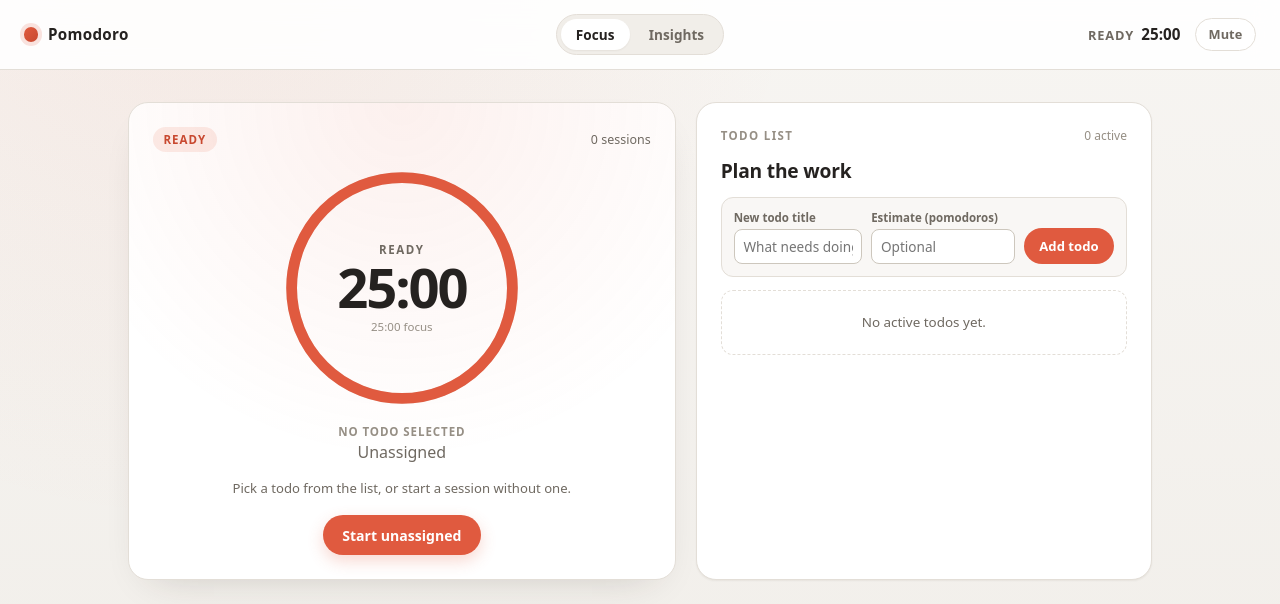
Test case: App › keeps the create form when the create command fails
The image size is (1280, 604).
expect the button "Start unassigned" is shown: met, box [323,515,481,555]
Type "Keep me" into the field labelled "New todo title".
click(798, 246); type("Keep me")  # box [734,229,862,264]
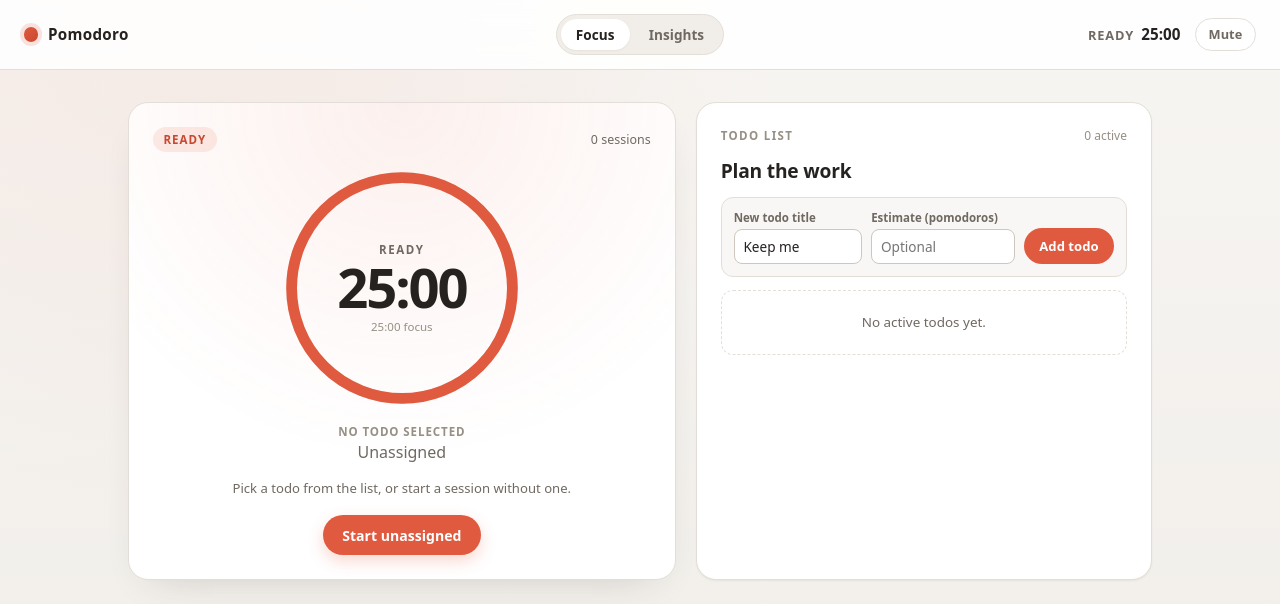
Type "2" into the number field labelled "Estimate (pomodoros)".
click(943, 246); type("2")  # box [871,229,1015,264]
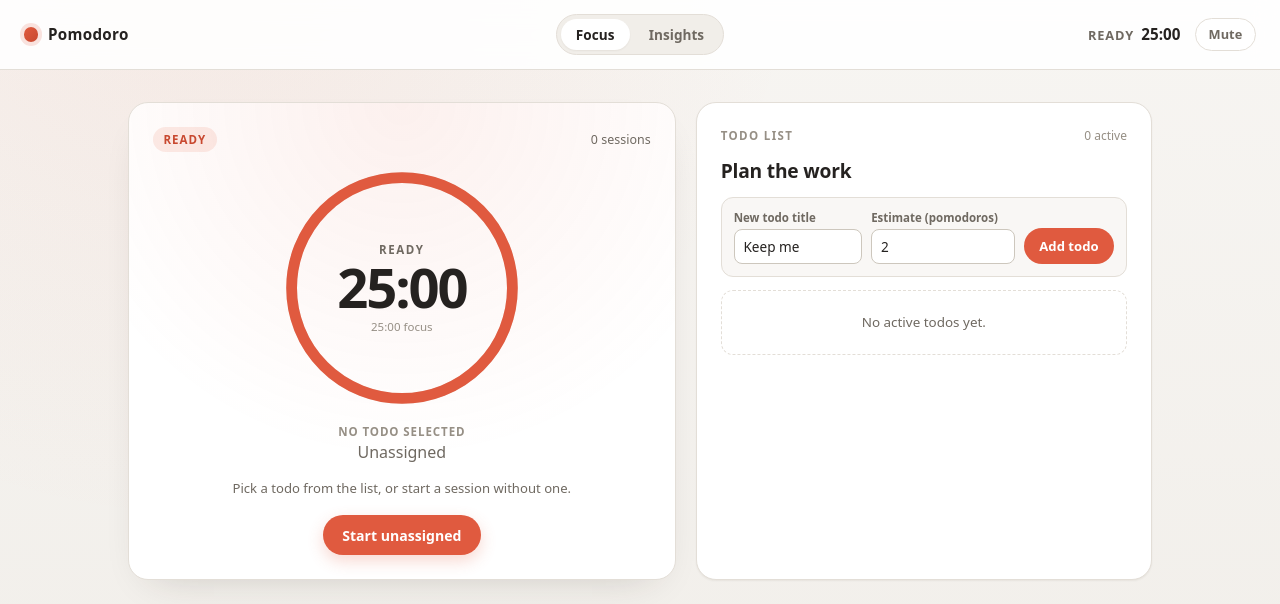
Click the button "Add todo".
click(1069, 246)  # box [1024,228,1114,264]
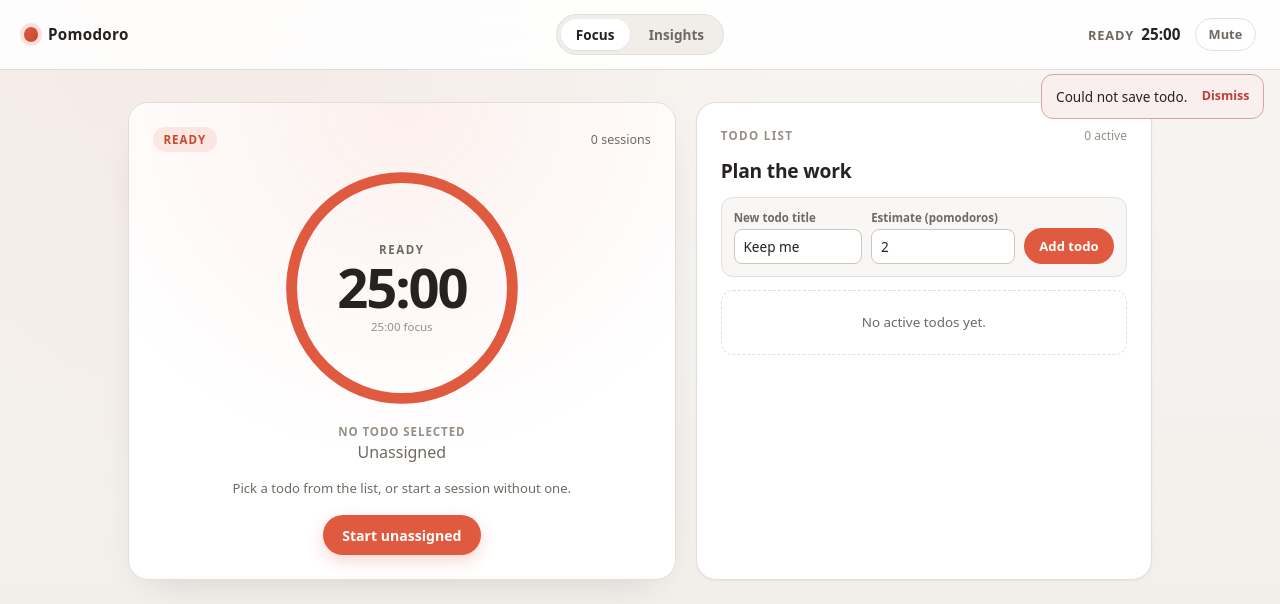
expect the text "Could not save todo." is shown: met, box [1056,87,1187,106]
